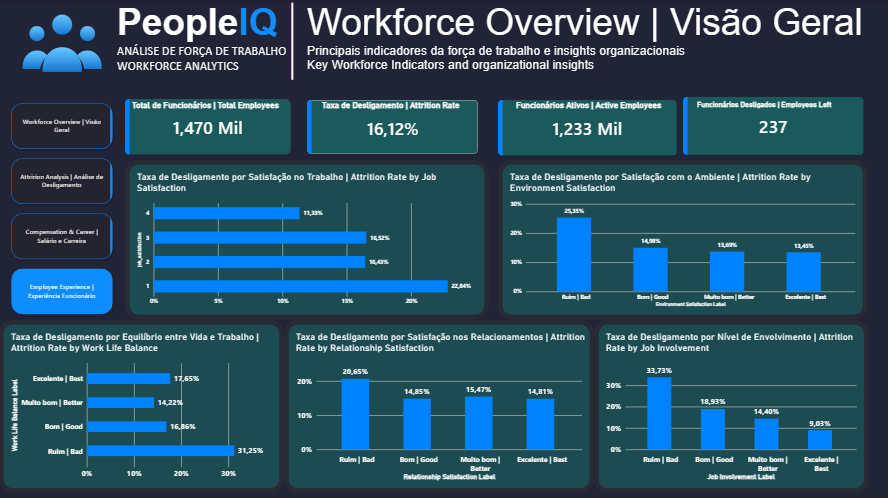

The dashboard page shown, as its layout file describes it:
{"tool":"powerbi","page":{"name":"Employee Experience | Experiência Funcionário","canvas":[1920,1080],"ordinal":3},"visuals":[{"type":"cardVisual","title":"Total de Funcionários","fields":{"Data":["analytics vw_dashboard_workforce.Total Employee"]},"box":[272.5,215,358.6,121],"z":1000},{"type":"cardVisual","title":"Taxa de desligamento","fields":{"Data":["analytics vw_dashboard_workforce.Attrition Rate"]},"box":[665,217.5,369.4,116.6],"z":2000},{"type":"cardVisual","title":"Funcionários Ativos","fields":{"Data":["analytics vw_dashboard_workforce.Attrition Employees"]},"box":[1077.5,217.5,386.6,121],"z":3000},{"type":"cardVisual","title":"Funcionários Desligados","fields":{"Data":["analytics vw_dashboard_workforce.Employees Left"]},"box":[1477.5,212.5,391,125.3],"z":4000},{"type":"shape","title":"Total de Funcionários | Total Employees","box":[287.3,218.2,326.2,28.1],"z":5000},{"type":"shape","title":"Taxa de Desligamento | Attrition Rate","box":[697.7,218.2,360.7,28.1],"z":6000},{"type":"shape","title":"Funcionários Ativos | Active Employees","box":[1116.7,218.2,391,28.1],"z":7000},{"type":"shape","title":"Funcionários Desligados | Employees Left","box":[1507.7,218.2,360.7,28.1],"z":8000},{"type":"barChart","title":"Taxa de Desligamento por Satisfação no Trabalho | Attrition Rate by Job Satisfaction","fields":{"Category":["analytics vw_dashboard_workforce.job_satisfaction"],"Y":["analytics vw_dashboard_workforce.Attrition Rate"]},"box":[272.5,347.5,786,344],"z":9000},{"type":"columnChart","title":"Taxa de Desligamento por Satisfação com o Ambiente | Attrition Rate by Environment Satisfaction","fields":{"Category":["analytics vw_dashboard_workforce.Environment Satisfaction Label"],"Y":["analytics vw_dashboard_workforce.Attrition Rate"]},"box":[1077.5,347.5,798,344],"z":9001},{"type":"clusteredBarChart","title":"Taxa de Desligamento por Equilíbrio entre Vida e Trabalho | Attrition Rate by Work Life Balance","fields":{"Category":["analytics vw_dashboard_workforce.Work Life Balance Label"],"Y":["analytics vw_dashboard_workforce.Attrition Rate"]},"box":[0,692.5,615,372.5],"z":9002},{"type":"columnChart","title":"Taxa de Desligamento por Satisfação nos Relacionamentos | Attrition Rate by Relationship Satisfaction","fields":{"Category":["analytics vw_dashboard_workforce.Relationship Satisfaction Label"],"Y":["analytics vw_dashboard_workforce.Attrition Rate"]},"box":[615,692.5,670,372.5],"z":9003},{"type":"columnChart","title":"Taxa de Desligamento por Nível de Envolvimento | Attrition Rate by Job Involvement","fields":{"Category":["analytics vw_dashboard_workforce.Job Involvement Label"],"Y":["analytics vw_dashboard_workforce.Attrition Rate"]},"box":[1285,692.5,592.5,372.5],"z":9004},{"type":"pageNavigator","box":[17.5,215,237.8,477.8],"z":9005},{"type":"image","box":[0,5,272.5,197.5],"z":9006},{"type":"textbox","box":[255,5,377.5,197.5],"z":9007},{"type":"textbox","box":[665,5,1255,197.5],"z":9008},{"type":"shape","box":[605,0,57.5,182.5],"z":9009}]}

Visuals, with their boxes in screenshot pixels (x1, y1, x2, y2), scaled from the page's 1920x1080 canvas onto the 888x498 screenshot:
"Total de Funcionários" cardVisual: bbox=[126, 99, 292, 155]
"Taxa de desligamento" cardVisual: bbox=[308, 100, 478, 154]
"Funcionários Ativos" cardVisual: bbox=[498, 100, 677, 156]
"Funcionários Desligados" cardVisual: bbox=[683, 98, 864, 156]
"Total de Funcionários | Total Employees" shape: bbox=[133, 101, 284, 114]
"Taxa de Desligamento | Attrition Rate" shape: bbox=[323, 101, 490, 114]
"Funcionários Ativos | Active Employees" shape: bbox=[516, 101, 697, 114]
"Funcionários Desligados | Employees Left" shape: bbox=[697, 101, 864, 114]
"Taxa de Desligamento por Satisfação no Trabalho | Attrition Rate by Job Satisfaction" barChart: bbox=[126, 160, 490, 319]
"Taxa de Desligamento por Satisfação com o Ambiente | Attrition Rate by Environment Satisfaction" columnChart: bbox=[498, 160, 867, 319]
"Taxa de Desligamento por Equilíbrio entre Vida e Trabalho | Attrition Rate by Work Life Balance" clusteredBarChart: bbox=[0, 319, 284, 491]
"Taxa de Desligamento por Satisfação nos Relacionamentos | Attrition Rate by Relationship Satisfaction" columnChart: bbox=[284, 319, 594, 491]
"Taxa de Desligamento por Nível de Envolvimento | Attrition Rate by Job Involvement" columnChart: bbox=[594, 319, 868, 491]
pageNavigator: bbox=[8, 99, 118, 319]
image: bbox=[0, 2, 126, 93]
textbox: bbox=[118, 2, 293, 93]
textbox: bbox=[308, 2, 887, 93]
shape: bbox=[280, 0, 306, 84]
